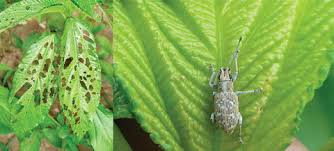damaged_jute: (131, 2, 320, 151), (4, 1, 114, 148)
